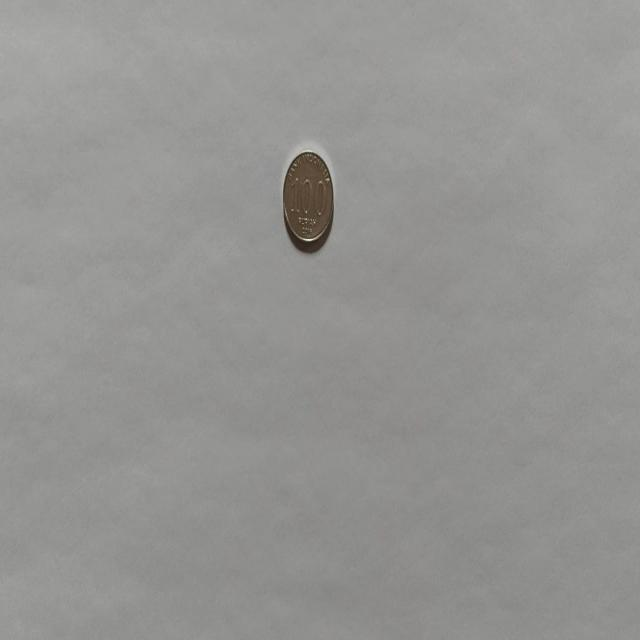seratus rupiah: (282, 148, 334, 248)
